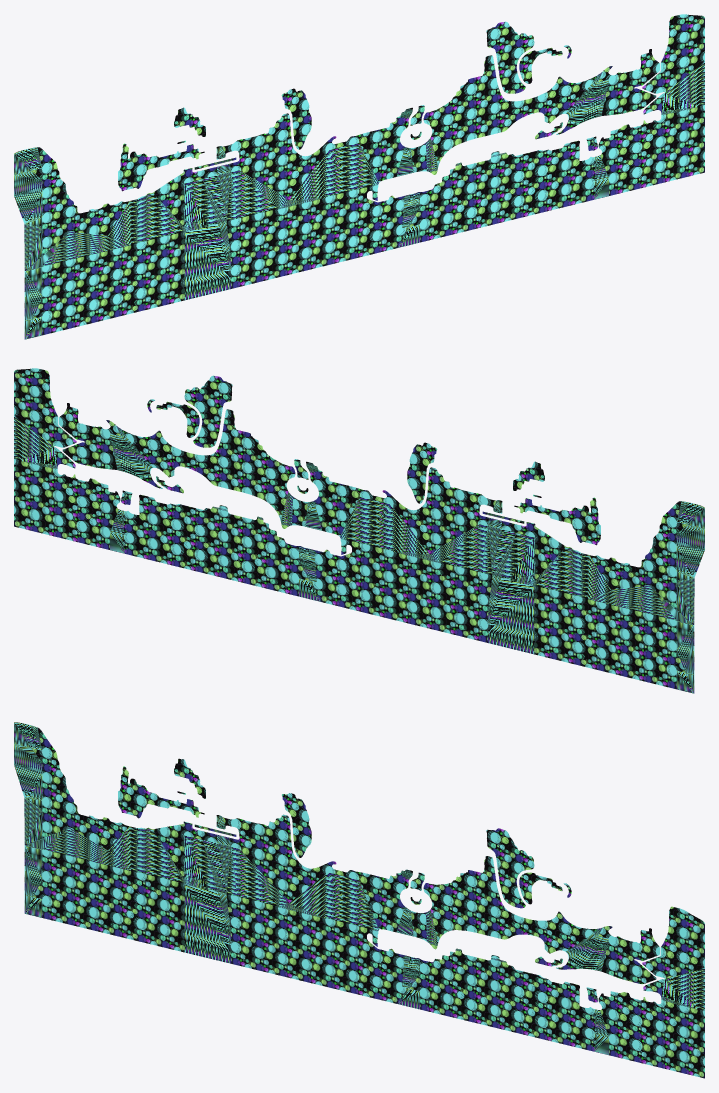
Rendered from yama02.glb.
3 renders of one model, top to bottom at view 1: azimuth 30°, elevation 25°; view 2: azimuth 150°, elevation 25°; view 3: azimuth 330°, elevation 25°, orthographic.
Parts seen in each view (by area): view 1: yama02; view 2: yama02; view 3: yama02.
Part boxes in pixels (x1=…): yama02: x1=14, y1=14, x2=704, y2=339; yama02: x1=14, y1=368, x2=704, y2=693; yama02: x1=14, y1=722, x2=704, y2=1078.
Bounding box in the file's own units: 5855 × 1629 × 1.
Materials: 1 (1 with a texture image).
